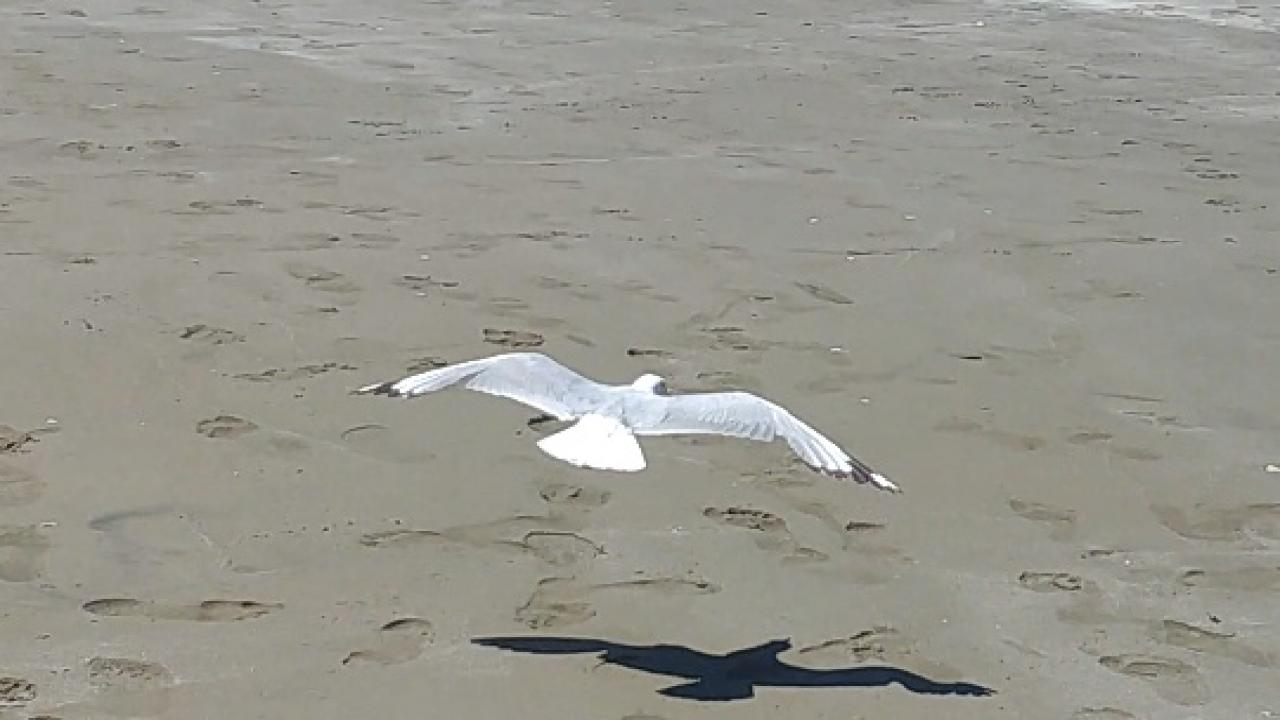Bird: (348, 340, 912, 505)
